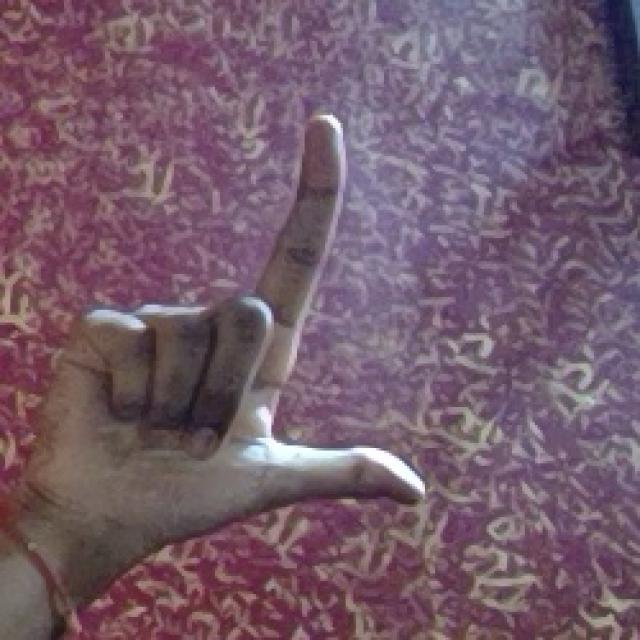Alphabet-L: (66, 105, 458, 558)
